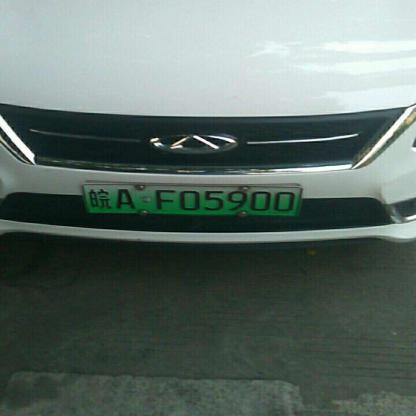lp: (82, 184, 301, 216)
